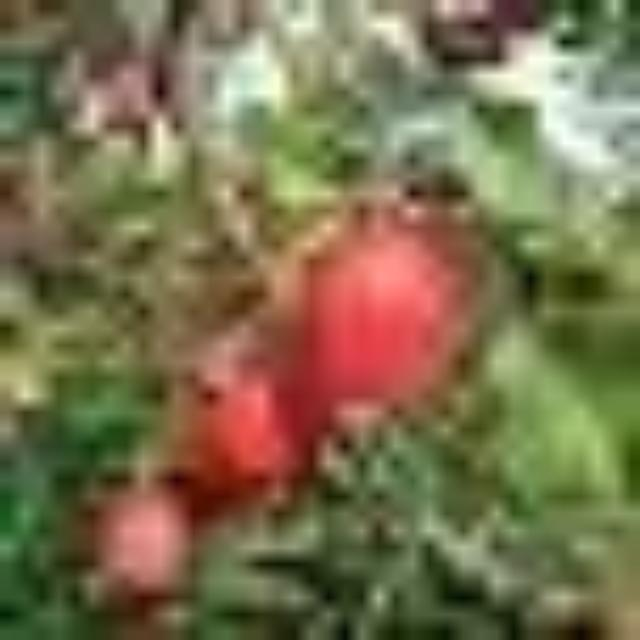Apple: (300, 197, 476, 447), (191, 360, 293, 501), (96, 493, 189, 596)
